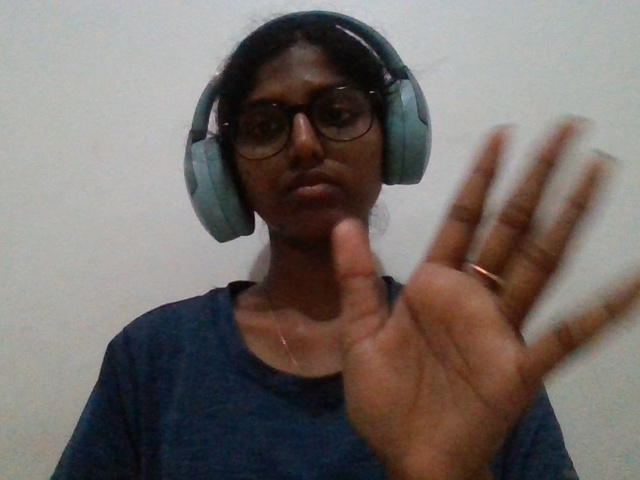Bye: (297, 104, 639, 480)
